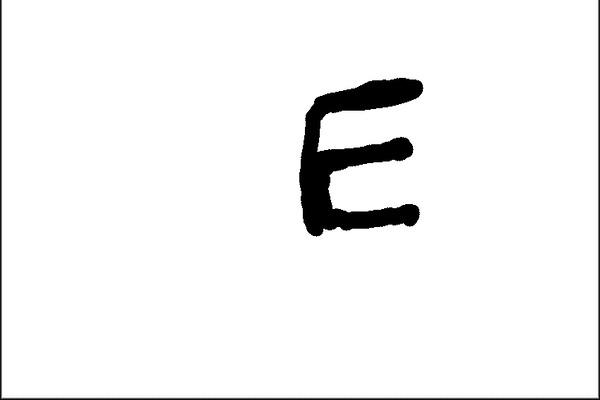E: (294, 71, 426, 239)
